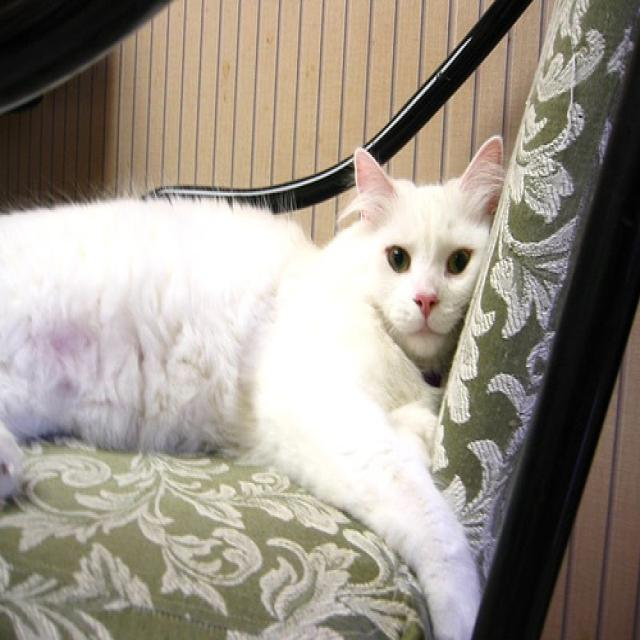left eye: (443, 244, 472, 277)
